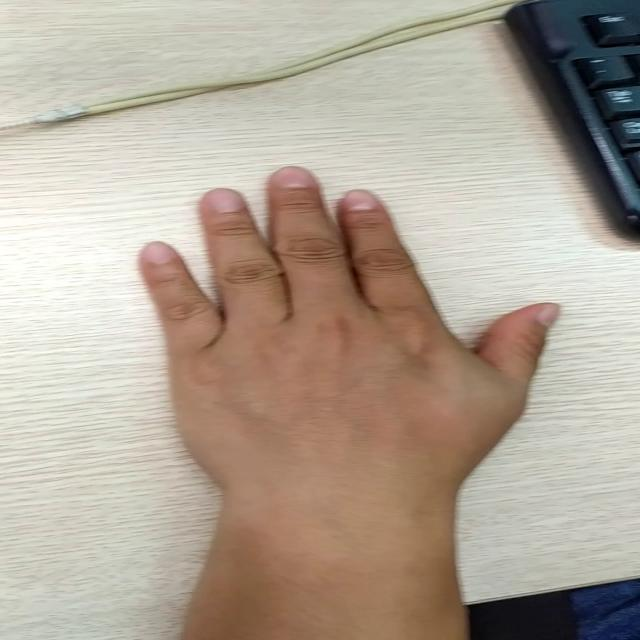hand: (113, 166, 558, 511)
